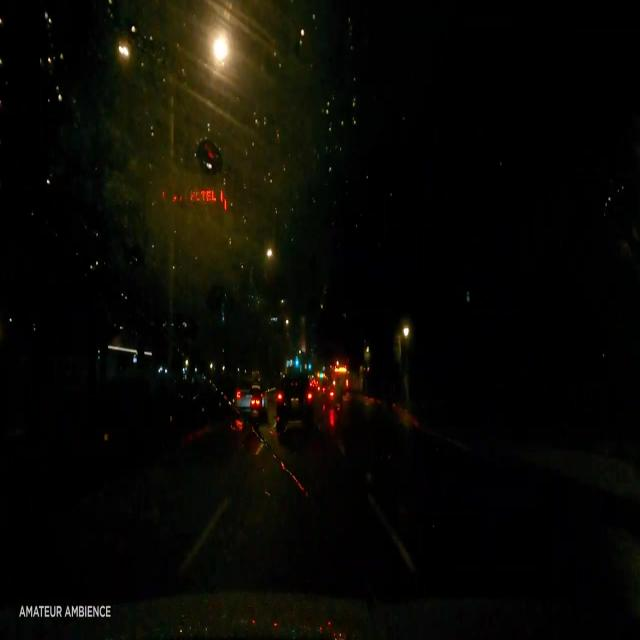Car: (275, 363, 312, 430), (232, 377, 267, 415)
